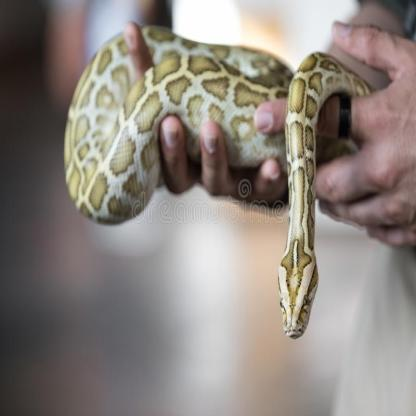snakes: (59, 15, 374, 338)
